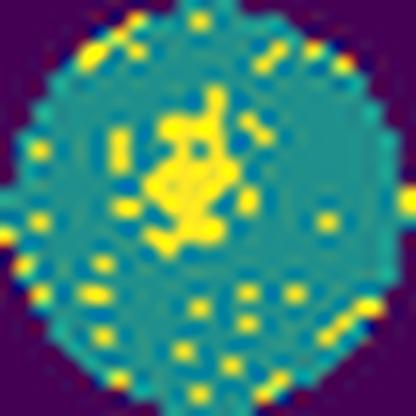Center: (144, 90, 245, 258)
